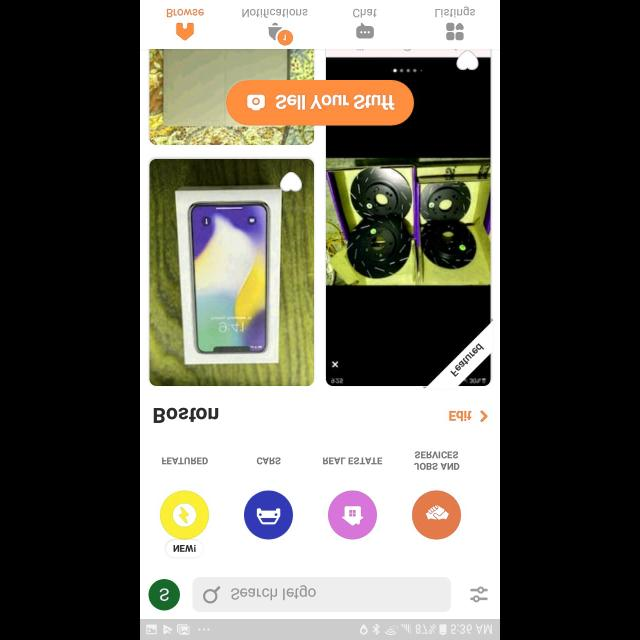icon: (328, 490, 378, 540), (268, 22, 294, 46), (280, 172, 302, 192), (456, 50, 478, 70), (176, 23, 194, 41), (446, 22, 464, 40), (203, 585, 221, 603), (470, 586, 488, 602), (356, 23, 374, 39), (480, 410, 488, 422)
image: (326, 48, 490, 386), (150, 158, 314, 386), (150, 49, 314, 145), (160, 490, 210, 540), (244, 490, 294, 540), (412, 490, 462, 540), (150, 578, 180, 610)
input: (193, 576, 451, 612)
text: (232, 584, 316, 600), (154, 407, 218, 423), (414, 450, 460, 470), (242, 9, 308, 19), (435, 6, 475, 18), (323, 456, 383, 464), (167, 8, 205, 18), (162, 458, 208, 464), (448, 411, 472, 422), (353, 8, 377, 18), (257, 456, 281, 464)
textbutton: (226, 79, 414, 125), (166, 539, 204, 557)
uppertaskbar: (140, 618, 500, 640)
